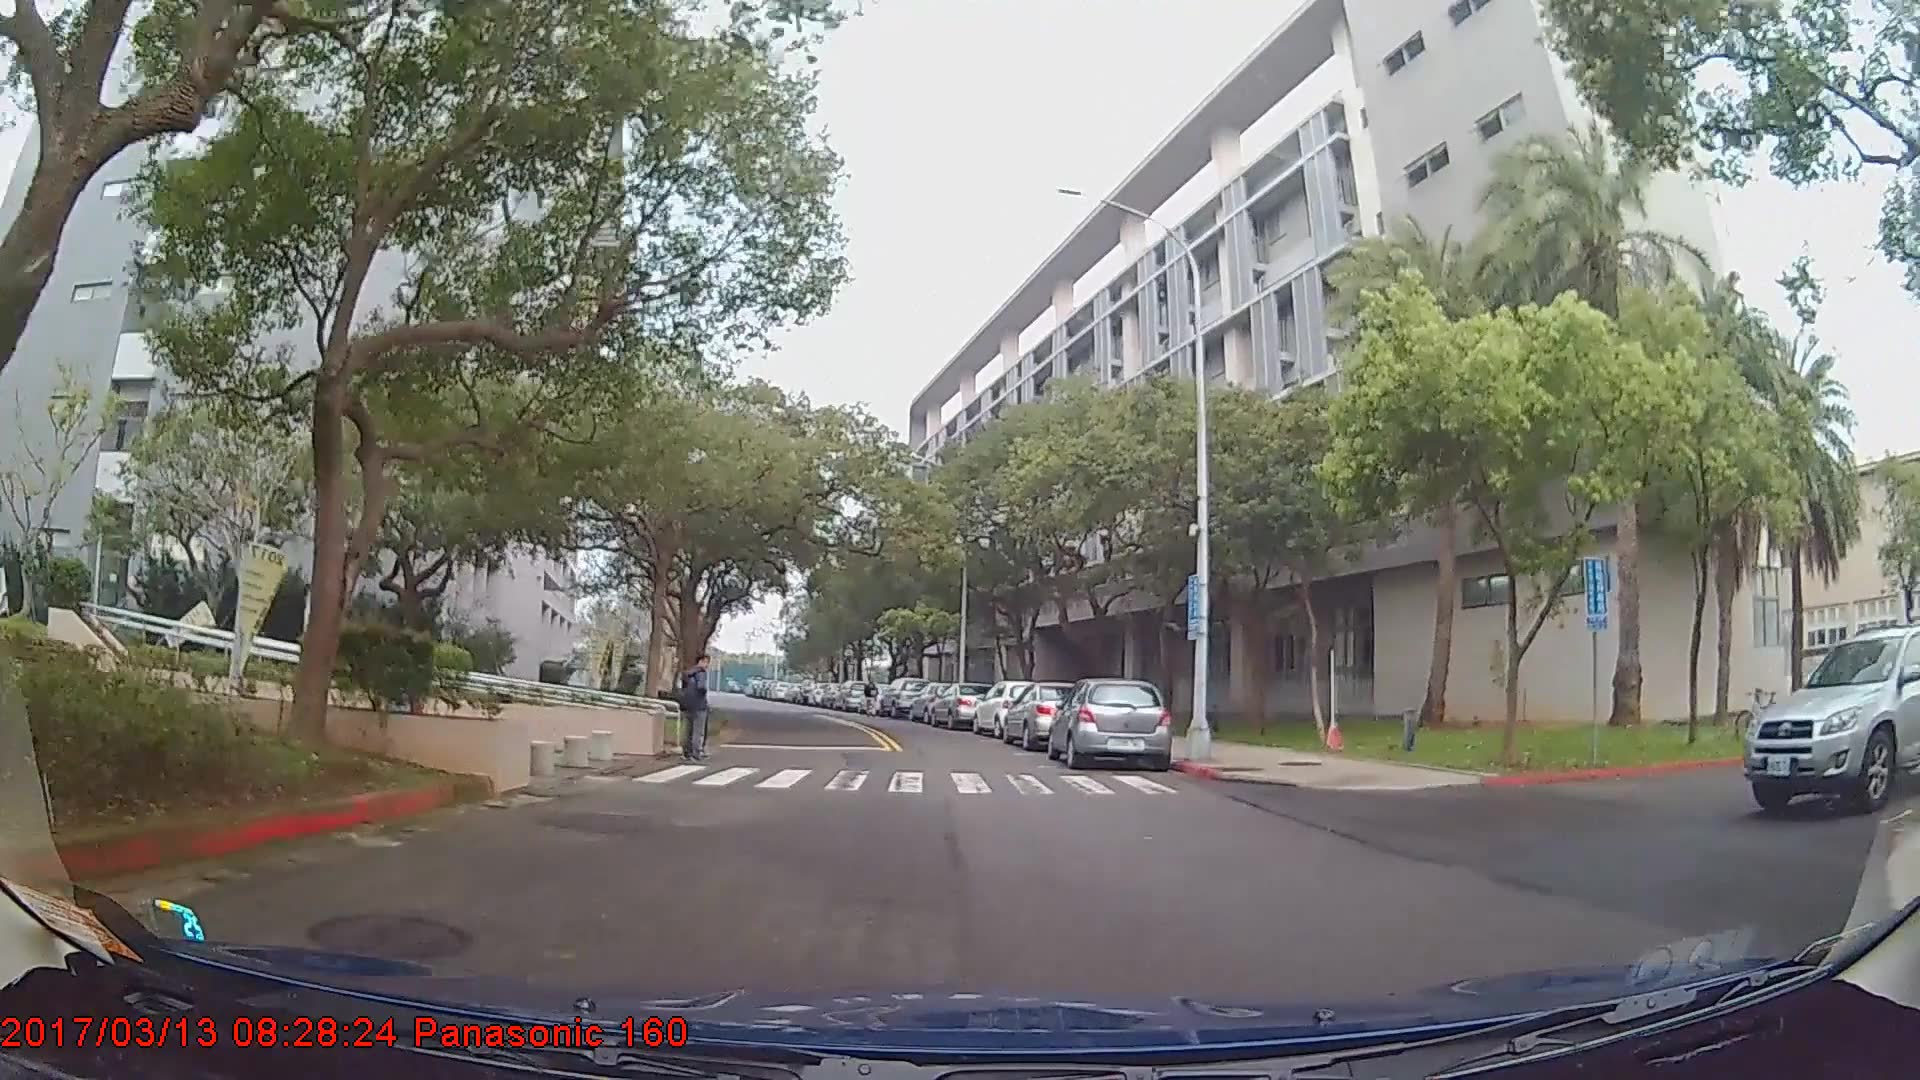pedestrian: (680, 658, 722, 774), (862, 676, 882, 718)
vehicle: (1740, 627, 1920, 815), (1046, 676, 1170, 769), (1001, 682, 1095, 749), (972, 679, 1054, 738), (929, 681, 995, 731), (877, 674, 928, 717)
